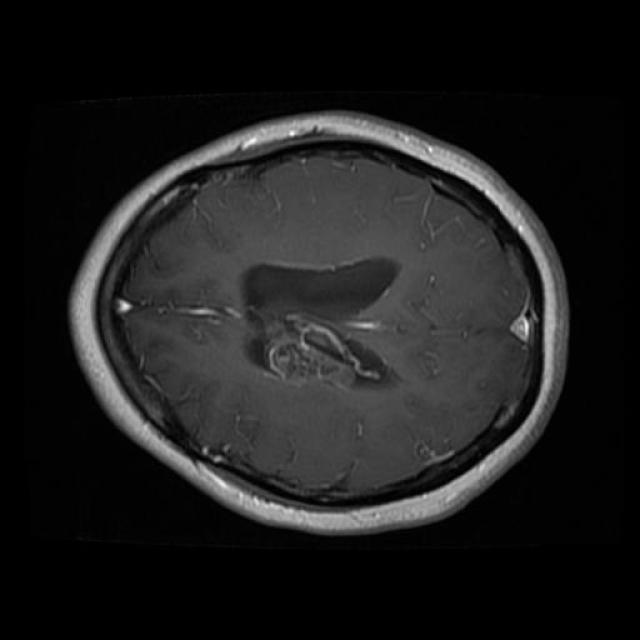Glioma: (259, 311, 387, 386)
